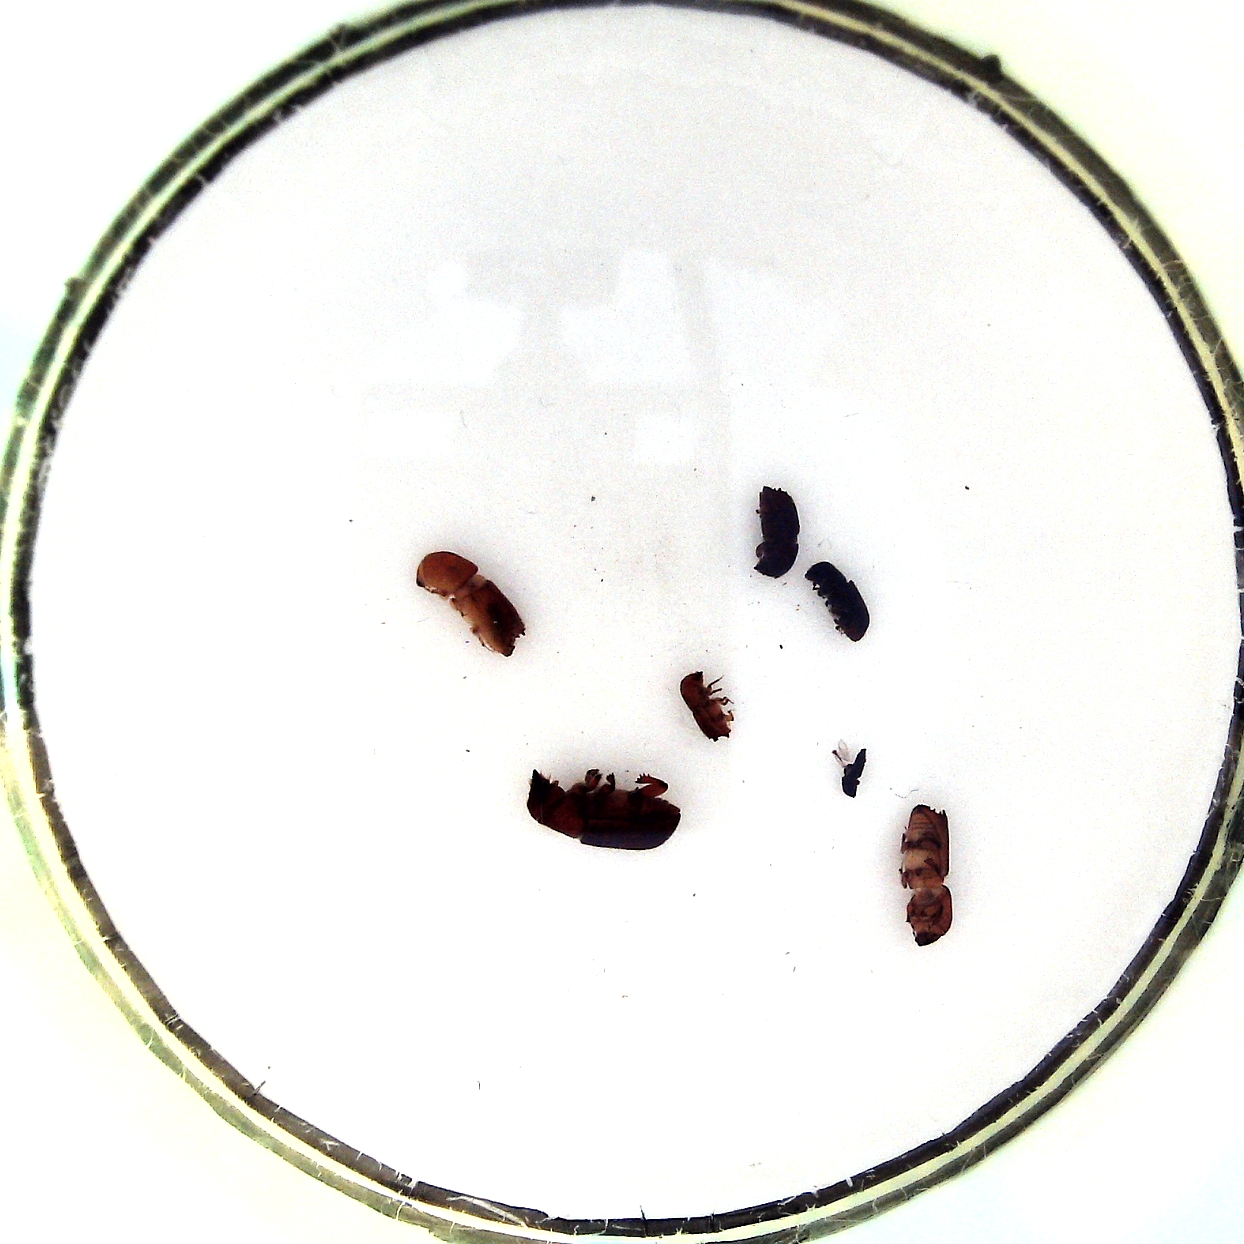Boerner: (415, 549, 525, 656), (895, 802, 957, 948)
Leconte: (523, 762, 680, 853)
Linnaeus: (751, 482, 802, 580)
acuminatus: (677, 668, 736, 744)
armandi: (807, 554, 871, 646)
coleoptera: (833, 739, 869, 800)
